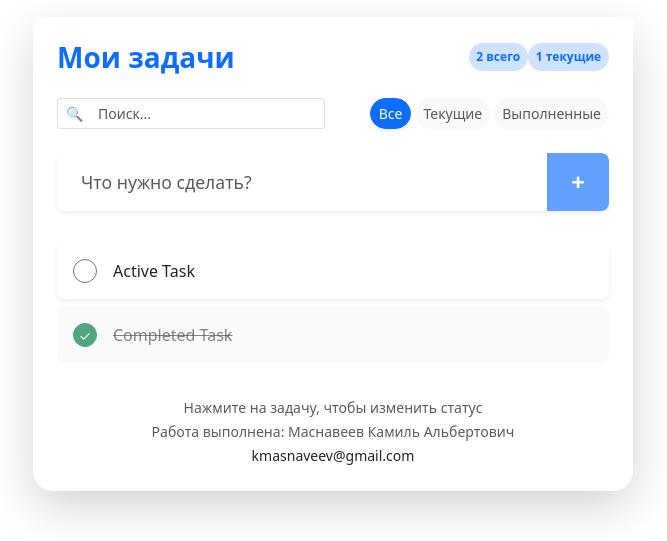
Test: TodoApp Component › filters tasks
Expected: the text "Active Task" is shown, [113,260,195,284]
Expected: the text "Completed Task" is shown, [113,324,232,348]
Step 1. Click the button "Текущие" → (453, 114), box [415,98,490,129]
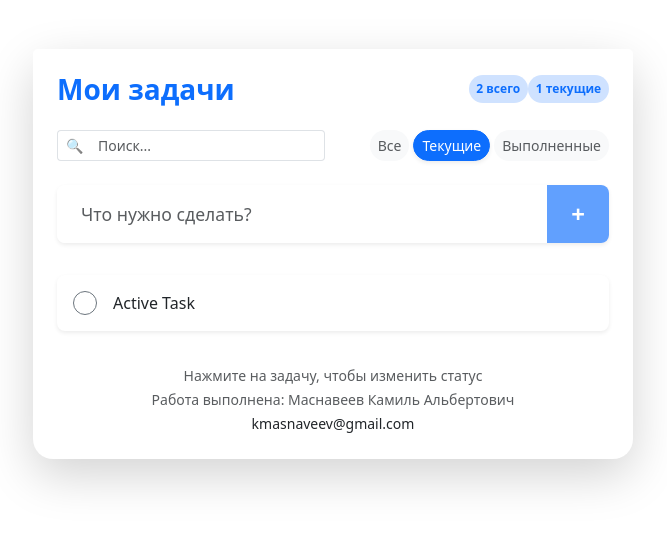
Expected: the text "Active Task" is shown, [113,292,195,316]
Expected: the text "Completed Task" is gone
